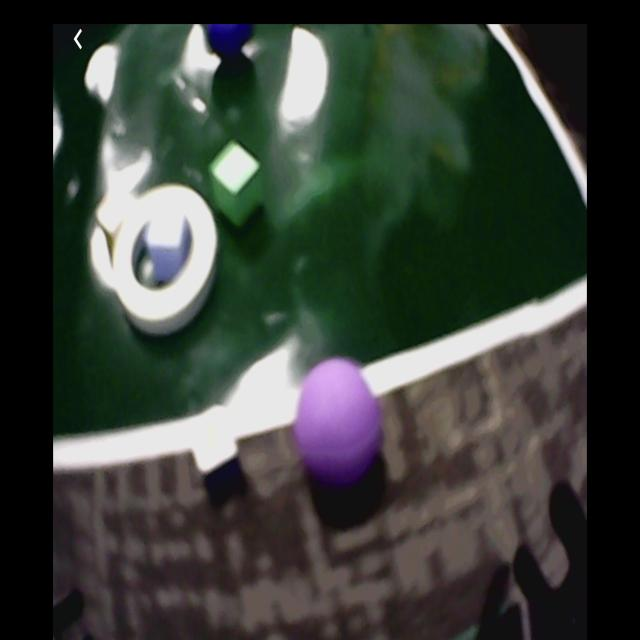ball: (297, 360, 379, 484), (205, 25, 256, 61)
